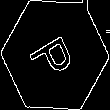P_NE: (27, 26, 83, 84)
